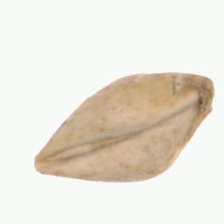L1: (187, 74, 215, 132), (34, 147, 60, 176)
L2: (34, 72, 214, 183)
